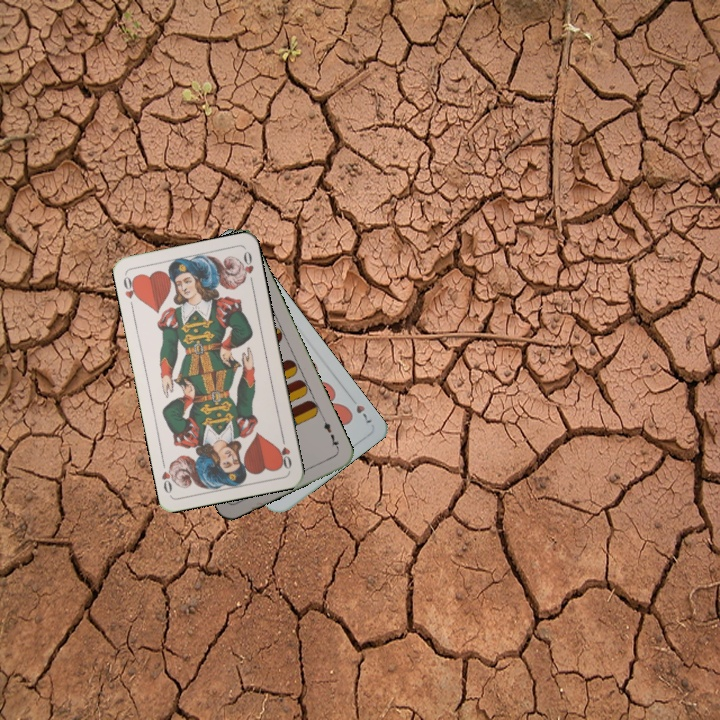E7: (319, 414, 342, 453)
H7: (346, 392, 375, 427)
HO: (119, 271, 141, 311), (275, 432, 294, 472)
